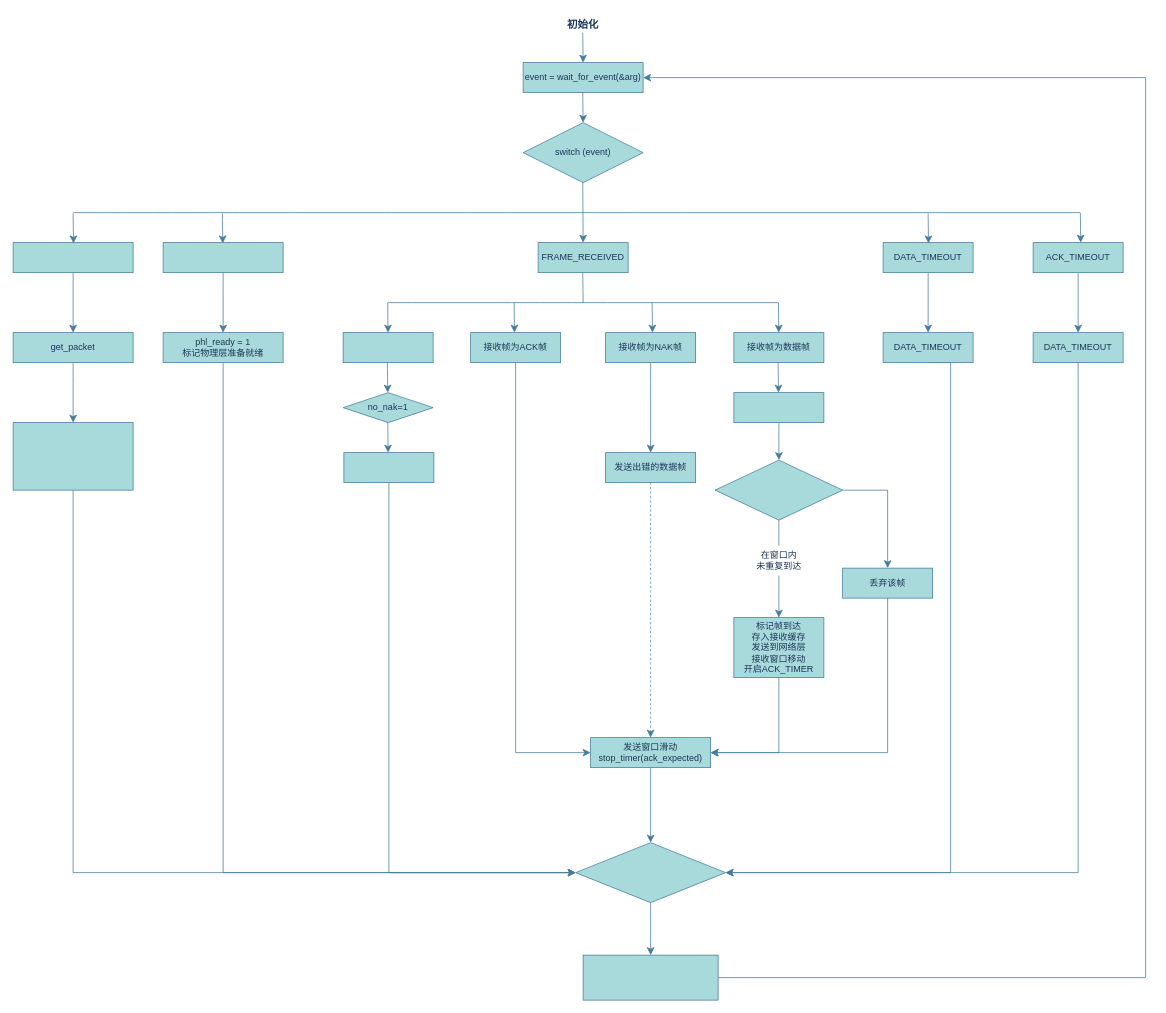
The diagram is 1166 pixels wide and 1013 high, and some of its shapes have lost their labels. Each missing label, with the box of its shape:
enable/disable_network_layer: (582, 954, 718, 1000)
nbuffered < NR_BUFS && phl_ready: (575, 842, 726, 903)
nbuffered++ 发送数据帧 inc(next_frame_to_send): (12, 422, 133, 490)
NETWORK_LAYER_READY: (12, 242, 133, 273)
PHYSICAL_LAYER_READY: (162, 242, 283, 273)
停止位图对应的计时: (733, 392, 824, 423)
发送NAK帧: (343, 452, 434, 483)
帧长度<6或 crc32校验有误: (342, 332, 433, 363)
是否在窗口内 是否重复到达: (714, 459, 843, 520)
